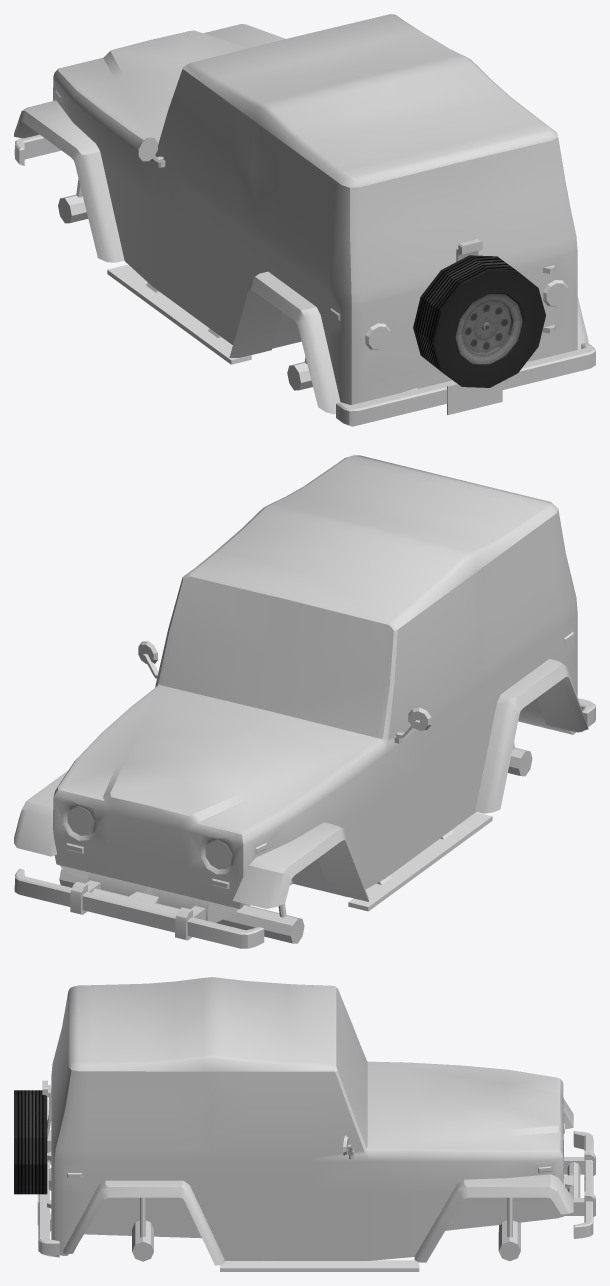
File: SportHopper.fbx
3 views of the same model, one above another, from view 1: azimuth 30°, elevation 25°; view 2: azimuth 150°, elevation 25°; view 3: azimuth 270°, elevation 25° (orthographic). The views are drawn at different scales.
Visible parts, largest first — view 1: Hopper, SpareWheel; view 2: Hopper; view 3: Hopper, SpareWheel.
Part boxes in pixels (left/top/right/bottom): Hopper: left=14, top=14, right=595, bottom=426; SpareWheel: left=413, top=255, right=545, bottom=387; Hopper: left=14, top=455, right=595, bottom=948; Hopper: left=37, top=977, right=595, bottom=1271; SpareWheel: left=14, top=1090, right=47, bottom=1194.
Bounding box in the file's own units: 2.45 × 2.05 × 5.25.
